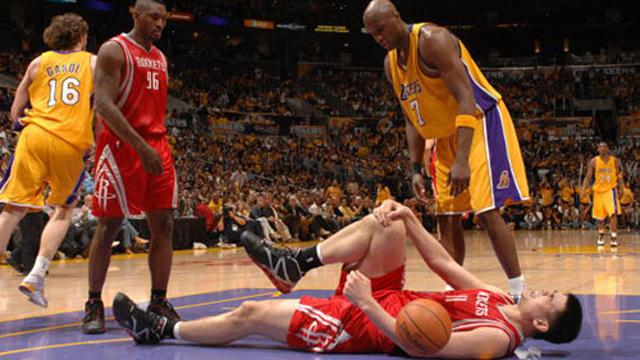down: (113, 195, 595, 350)
up: (360, 2, 539, 295), (79, 1, 190, 340), (1, 7, 105, 314), (577, 137, 631, 254)
